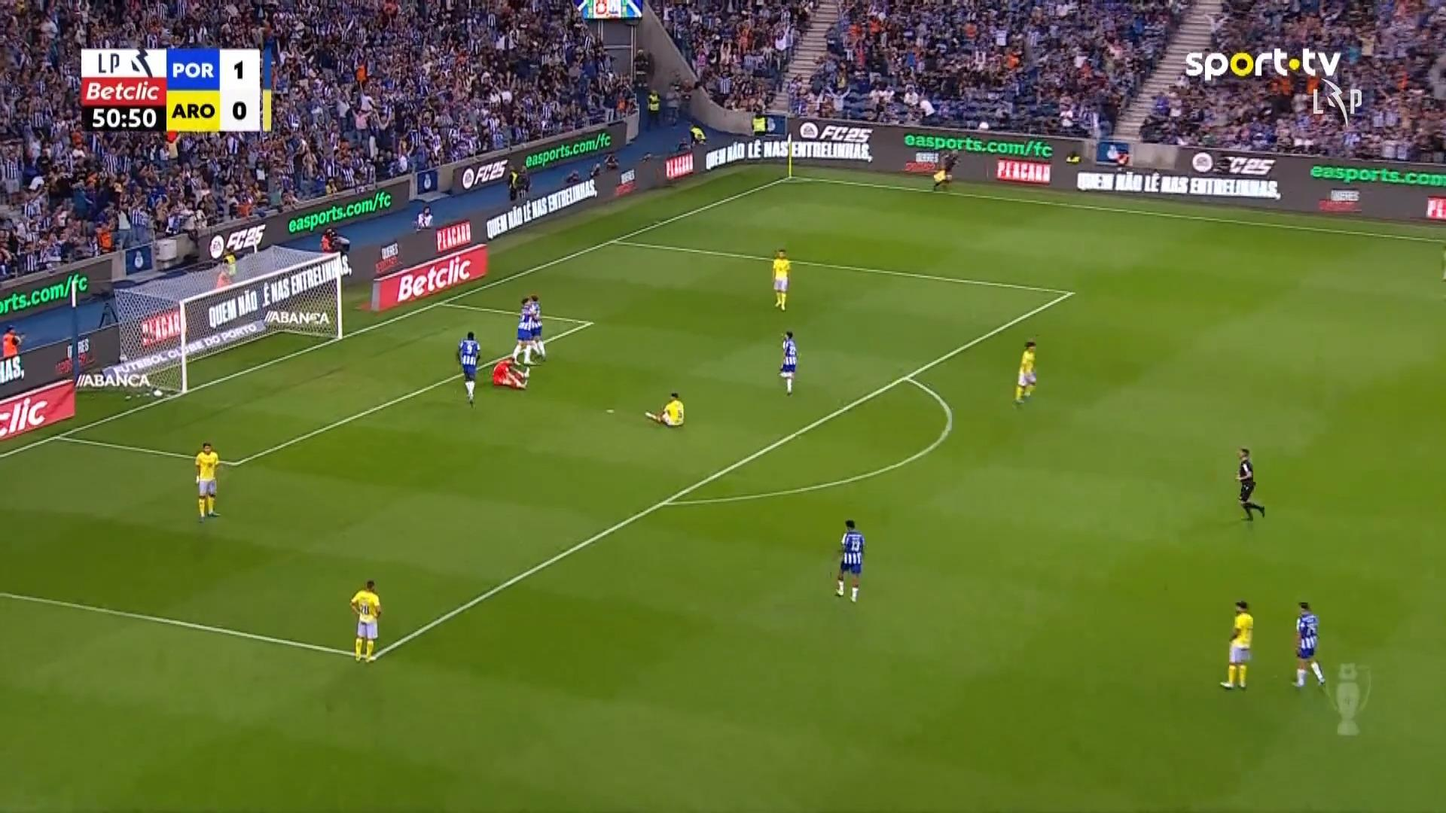ball: (1023, 371, 1036, 384), (360, 601, 370, 614)
goalkeeper: (491, 355, 529, 389)
player: (1219, 600, 1253, 689), (1292, 600, 1326, 687), (349, 579, 381, 662), (834, 518, 865, 602), (194, 441, 220, 521), (456, 330, 480, 406), (511, 297, 535, 366), (644, 391, 685, 428), (1013, 340, 1037, 403), (770, 248, 791, 311), (778, 330, 798, 395), (526, 294, 545, 361)
referee: (1235, 446, 1264, 520), (931, 150, 959, 190)
